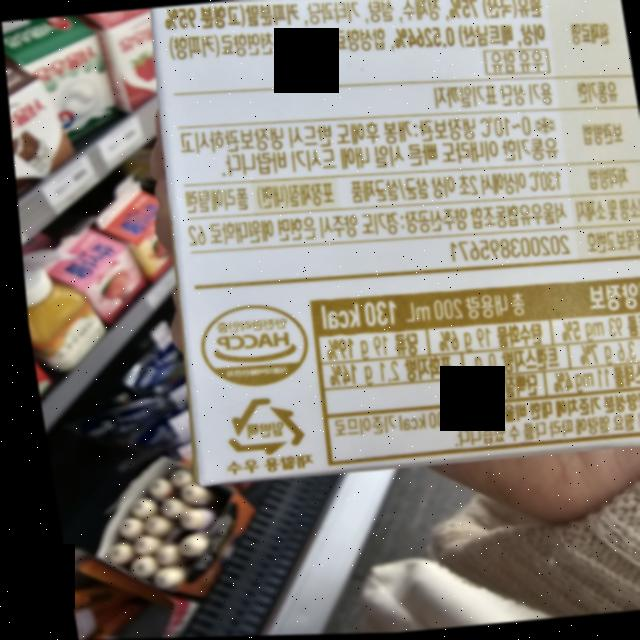NormalPack: (213, 394, 301, 459)
